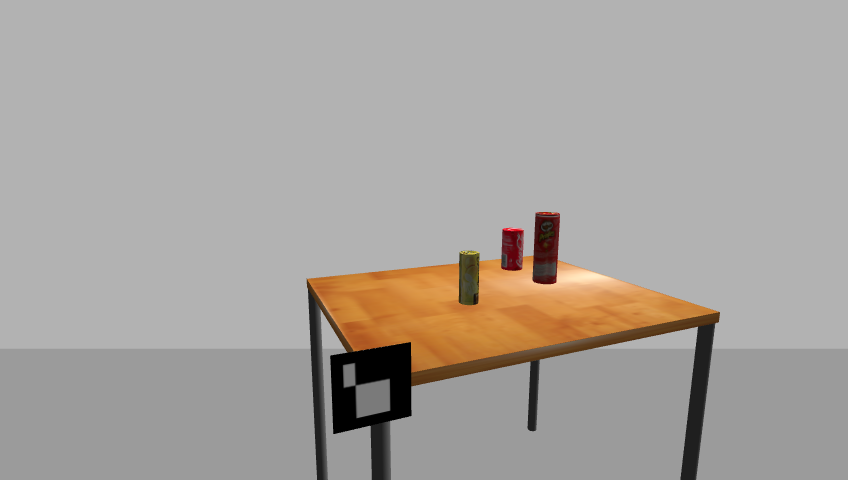aruco marker: (324, 341, 417, 436)
biscuits pack: (457, 250, 481, 307)
coke can: (500, 227, 525, 272)
dinner table: (299, 258, 730, 479)
pringles can: (533, 211, 562, 286)
